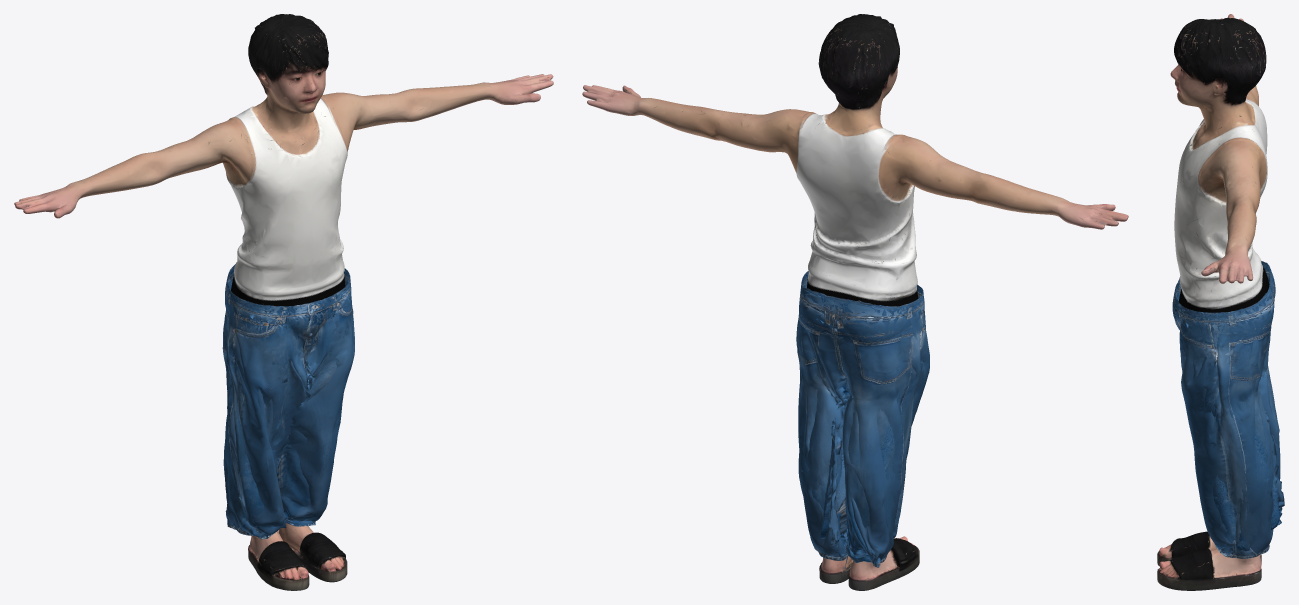
File: debbd659-0eee-470e-9237-82f218fda193-full.glb
3 views of the same model, side by side, from view 1: azimuth 30°, elevation 25°; view 2: azimuth 150°, elevation 25°; view 3: azimuth 270°, elevation 25° (orthographic).
Parts seen in each view (by area): view 1: Body_Feet, Mesh_0.001; view 2: Body_Feet, Mesh_0.001; view 3: Body_Feet, Mesh_0.001.
Part boxes in pixels (x1,y1,x2,y2): Body_Feet: (14,14,553,590); Mesh_0.001: (222,264,354,539); Body_Feet: (582,14,1128,590); Mesh_0.001: (796,271,929,568); Body_Feet: (1157,14,1269,590); Mesh_0.001: (1172,261,1284,558).
Size of the model in its own units: 1.91 by 1.85 by 0.3867.
2 materials, 2 textured.
